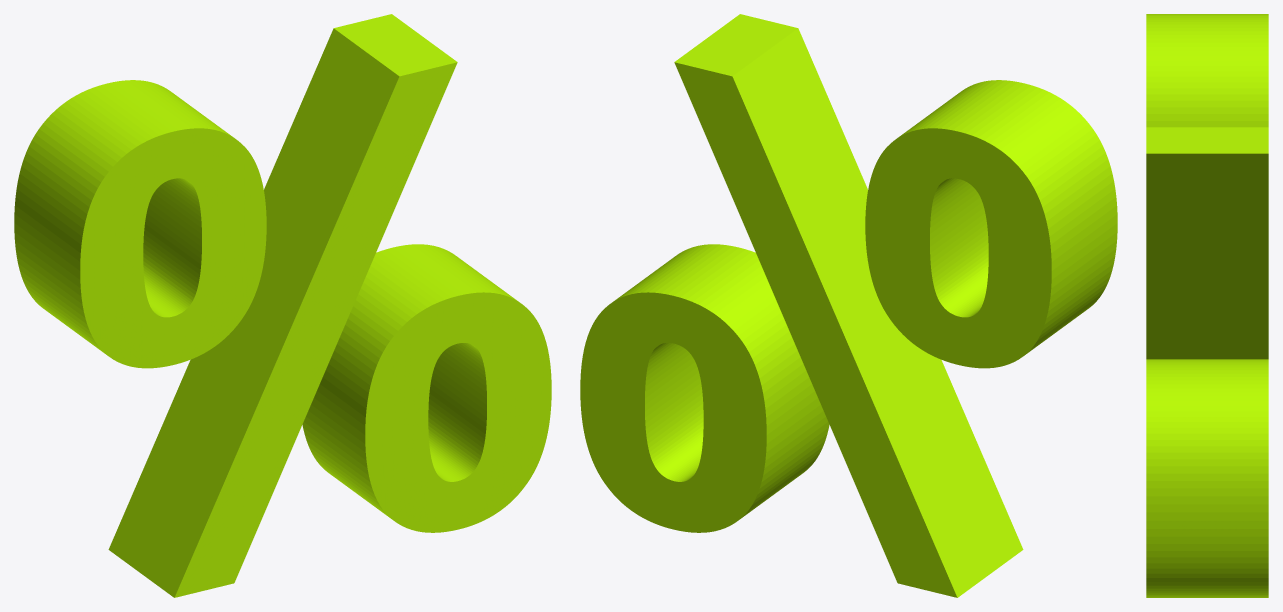
File: promo.glb
3 renders of one model, left to right at view 1: azimuth 30°, elevation 25°; view 2: azimuth 150°, elevation 25°; view 3: azimuth 270°, elevation 25°, orthographic. The views are drawn at different scales.
Size of the model in its own units: 0.2396 by 0.2271 by 0.058.
